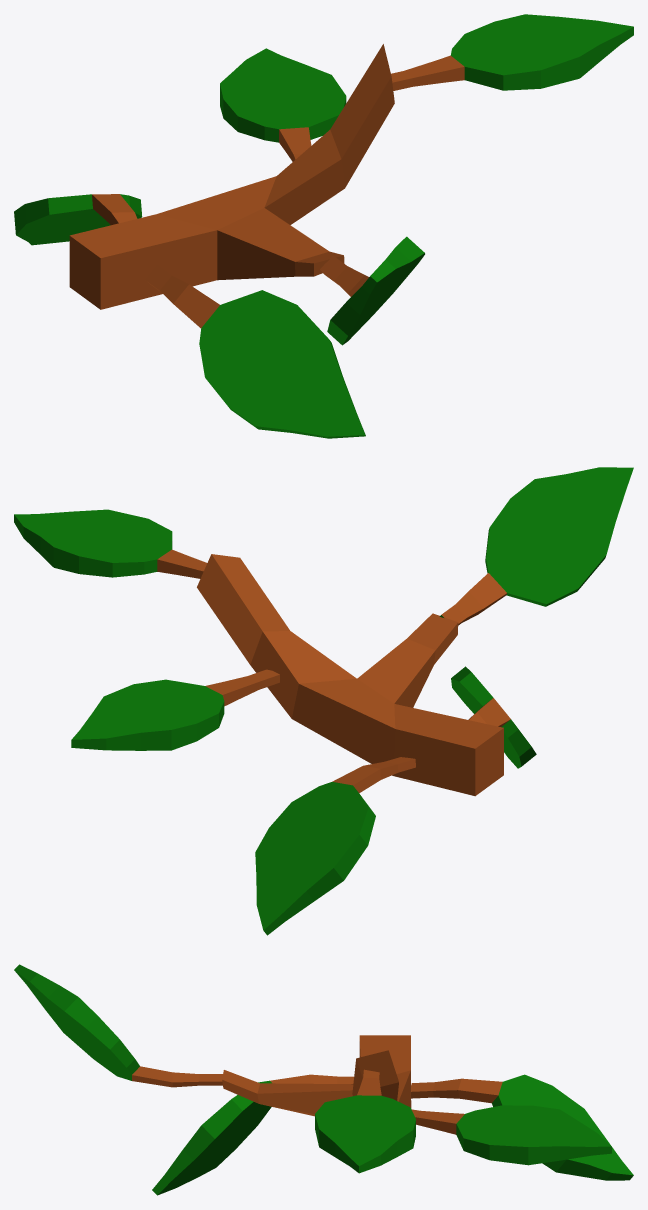
The model's file is dal_1.fbx.
The picture shows the model from 3 angles, top to bottom: view 1: azimuth 30°, elevation 25°; view 2: azimuth 150°, elevation 25°; view 3: azimuth 270°, elevation 25°; orthographic projection. The views are drawn at different scales.
Visible parts, largest first — view 1: Cube.003; view 2: Cube.003; view 3: Cube.003.
Boxes of the visible parts, box(x1,y1,x2,y2) form: Cube.003: box(14, 14, 633, 438); Cube.003: box(14, 467, 633, 935); Cube.003: box(14, 964, 633, 1195).
Bounding box in the file's own units: 0.9127 × 0.4222 × 1.11.
